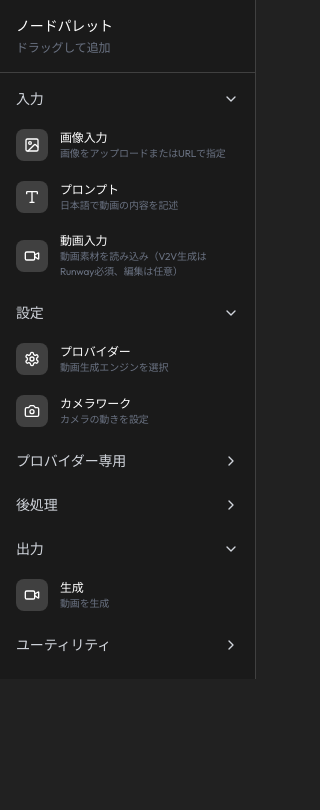
Test: NodePalette - omniReference entry › renders the Seedance Omni Reference entry as draggable when provider is seedance
Click the button "プロバイダー専用". click: x=128, y=461
box: [8, 443, 247, 479]
(page scrolled)
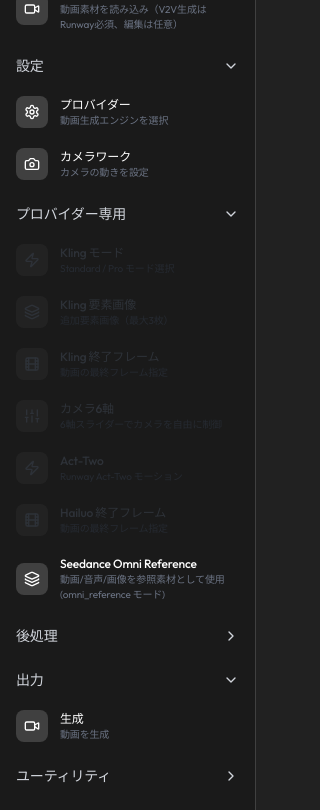
Expected: the text "Seedance Omni Reference" is shown, [60, 556, 197, 571]
